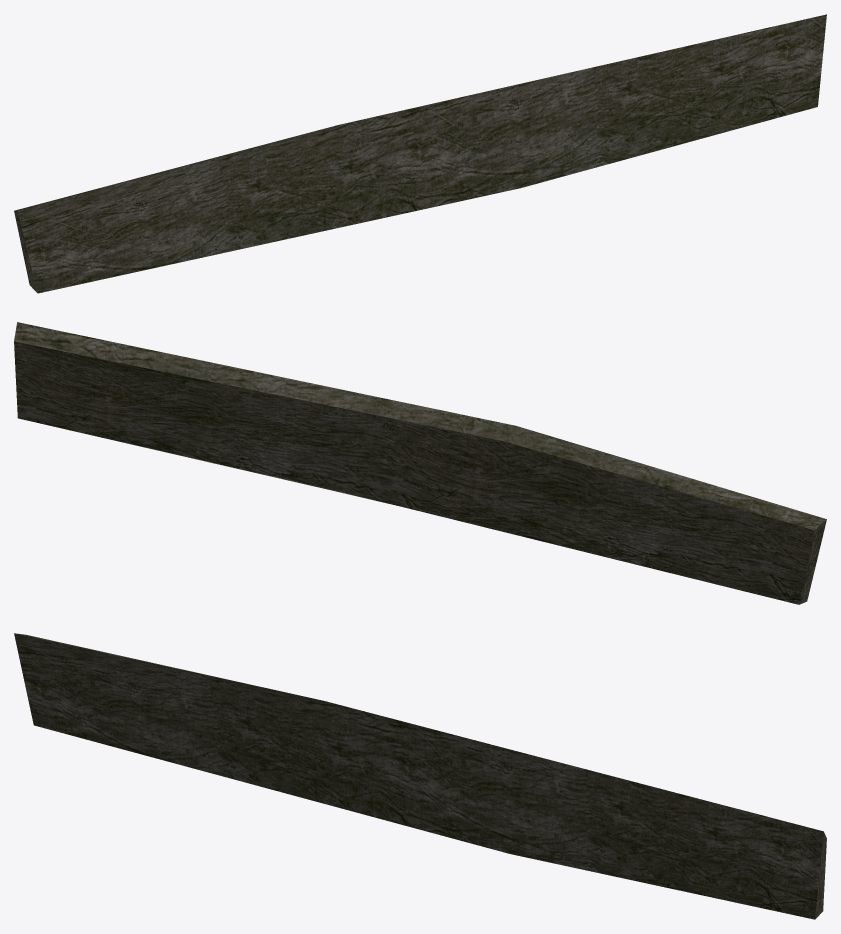
Rendered from TI_Plank_03.fbx.
3 renders of one model, top to bottom at view 1: azimuth 30°, elevation 25°; view 2: azimuth 150°, elevation 25°; view 3: azimuth 330°, elevation 25°, orthographic.
Visible parts, largest first — view 1: TI_Plank_03; view 2: TI_Plank_03; view 3: TI_Plank_03.
Part boxes in pixels (x1,y1,x2,y2): TI_Plank_03: (14, 14, 826, 293); TI_Plank_03: (14, 322, 826, 604); TI_Plank_03: (14, 633, 826, 919).
Bounding box in the file's own units: 3.86 × 0.4947 × 0.1076.
